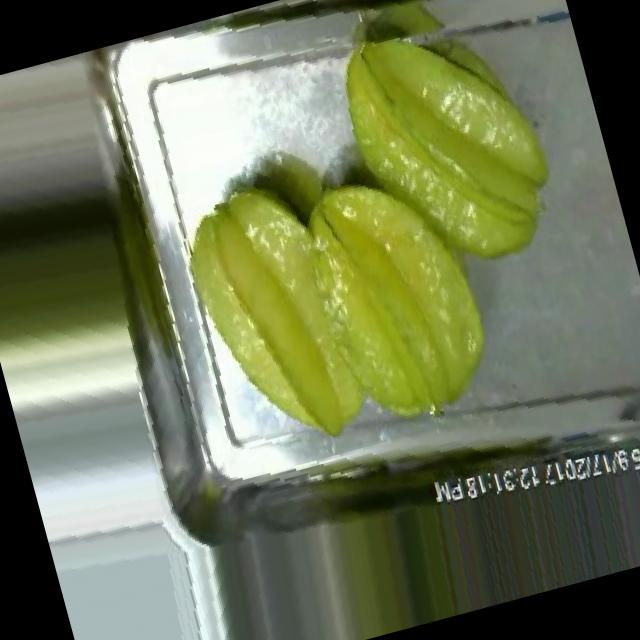fruit: (152, 119, 545, 495), (303, 0, 594, 319)
